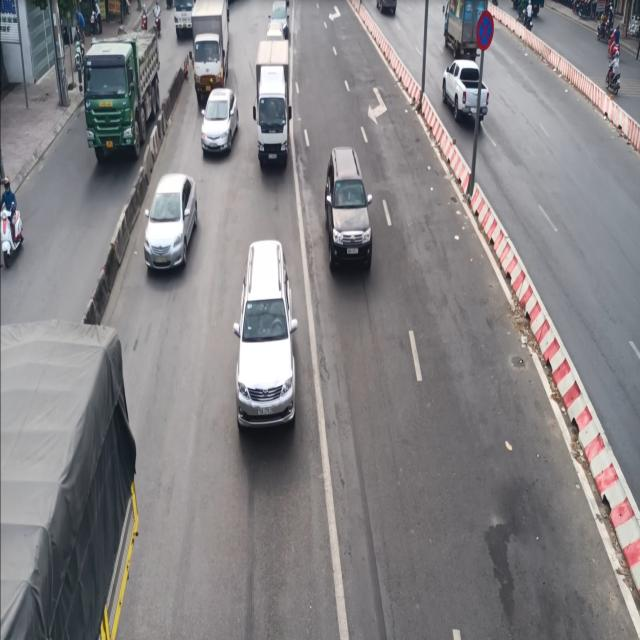car: (231, 236, 302, 436), (140, 162, 202, 292), (321, 137, 378, 273), (198, 82, 240, 158)
motor: (0, 171, 28, 263)
truck: (83, 32, 161, 165), (251, 38, 297, 185)
